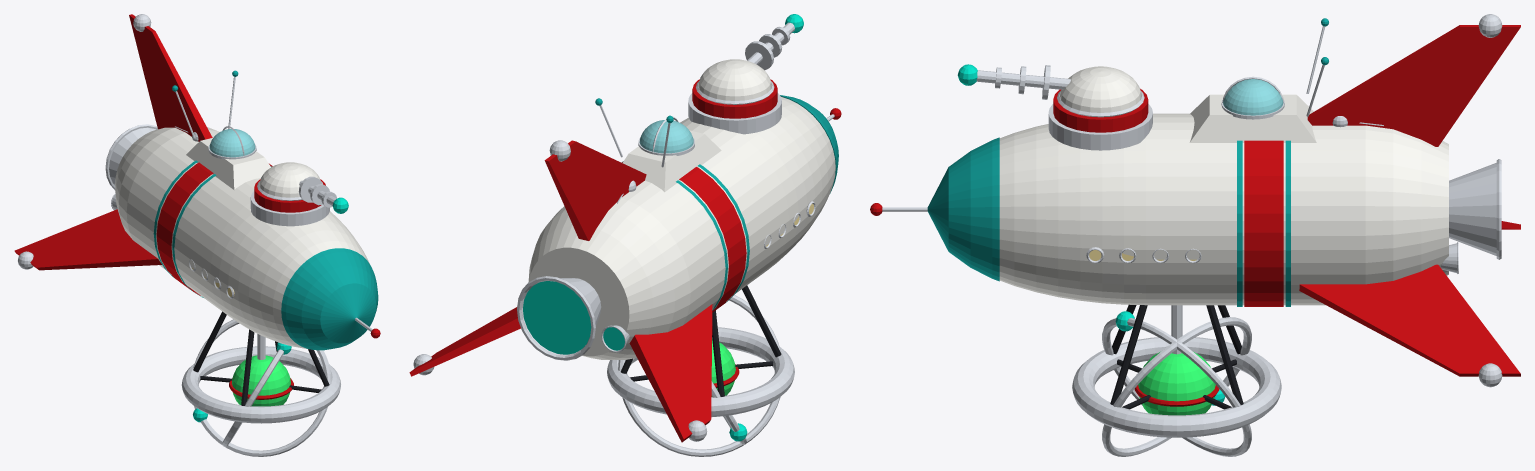
The model's file is frigate.obj.
3 renders of one model, left to right at view 1: azimuth 30°, elevation 25°; view 2: azimuth 150°, elevation 25°; view 3: azimuth 270°, elevation 25°, orthographic. The views are drawn at different scales.
Visible parts, largest first — view 1: frigate; view 2: frigate; view 3: frigate.
Part boxes in pixels (<box>): frigate: <box>14,14,380,456</box>; frigate: <box>409,14,841,456</box>; frigate: <box>870,14,1520,456</box>.
Bounding box in the file's own units: 219 × 289 × 380.
1 material, 1 textured.
